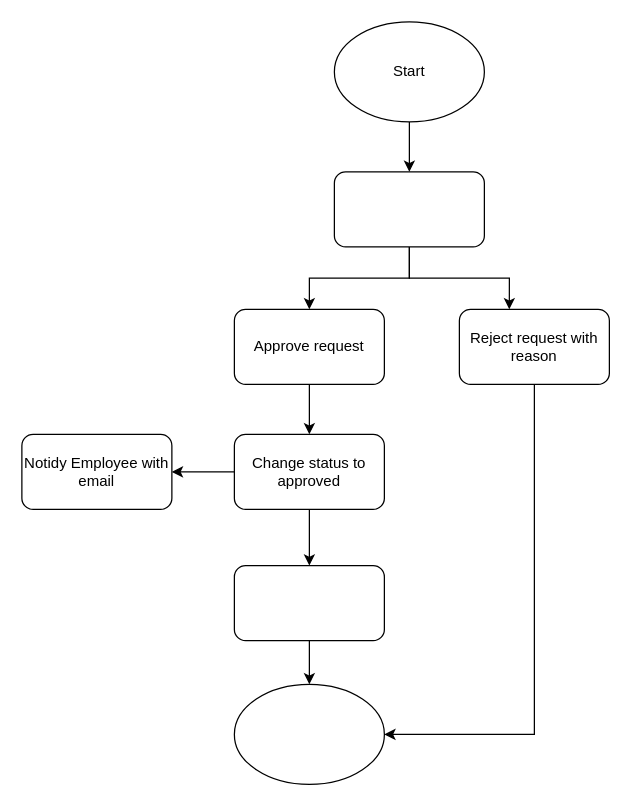
This 631x806 diagram has some shape labels left out. Each missing label, with the centre of its shape:
End: point 308,733
Update Employee balance: point 308,602
VTS Home Request accepted by managers: point 408,209
